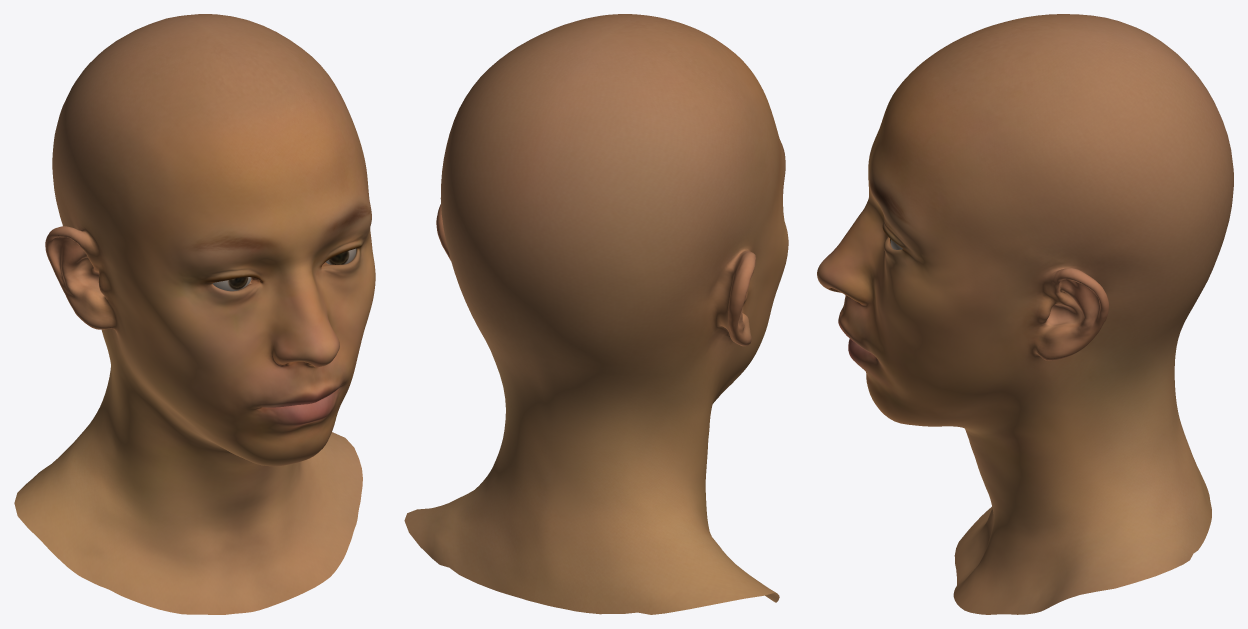
3 views of the same model, side by side, from view 1: azimuth 30°, elevation 25°; view 2: azimuth 150°, elevation 25°; view 3: azimuth 270°, elevation 25° (orthographic). The views are drawn at different scales.
Visible parts, largest first — view 1: Registered head; view 2: Registered head; view 3: Registered head.
Part boxes in pixels (x1,y1,x2,y2): Registered head: [14, 14, 375, 614]; Registered head: [404, 14, 788, 614]; Registered head: [817, 14, 1233, 614].
Size of the model in its own units: 1.22 by 1.91 by 1.3.
3 materials, 3 textured.
